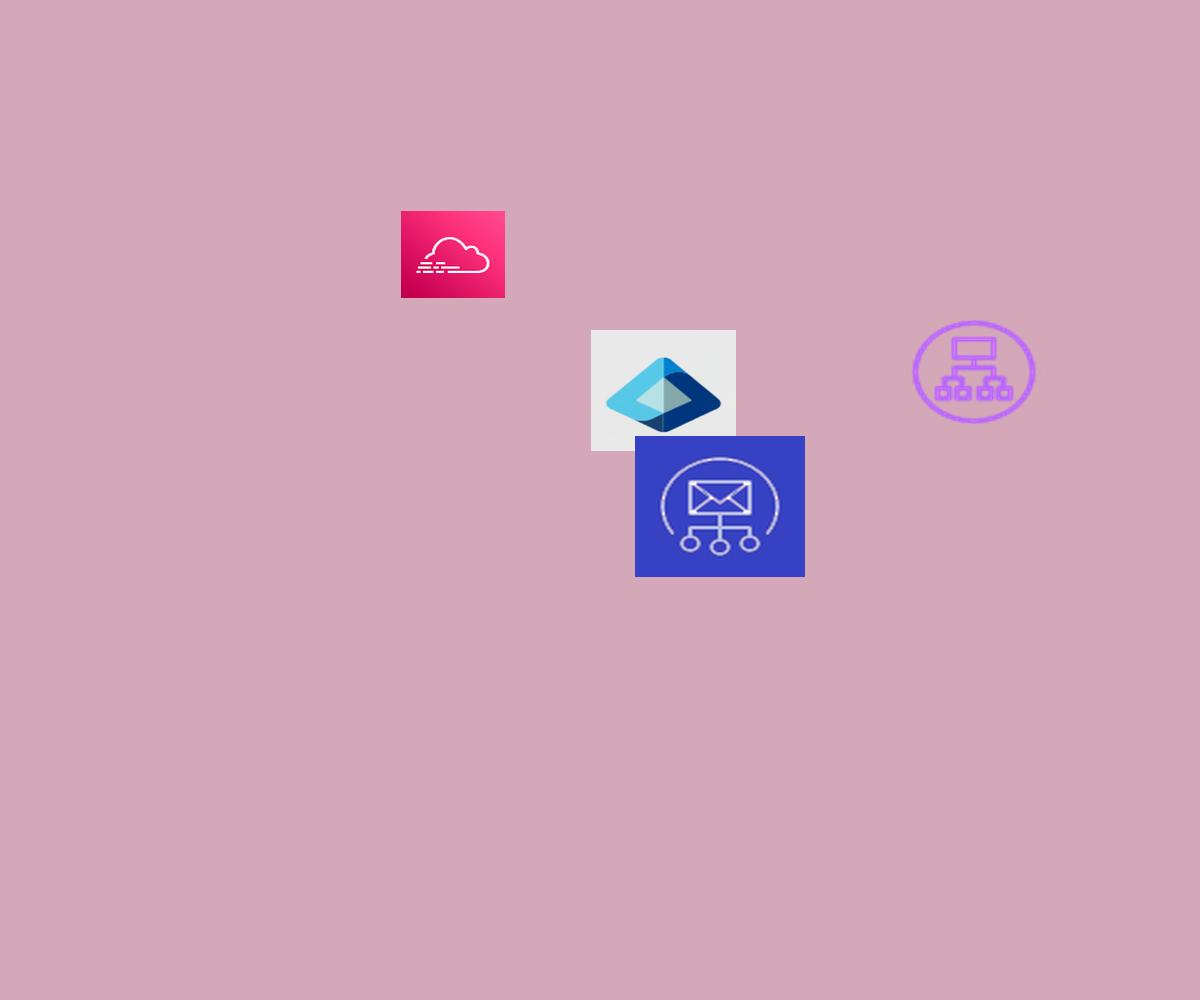AWS-CloudTrail: (401, 211, 505, 298)
AWS-Res_Elastic-Load-Balancing_Application-Load-Balancer: (907, 316, 1041, 428)
AWS-Simple-Email-Service: (635, 436, 805, 577)
Azure_microsoft_entra: (591, 330, 736, 451)
